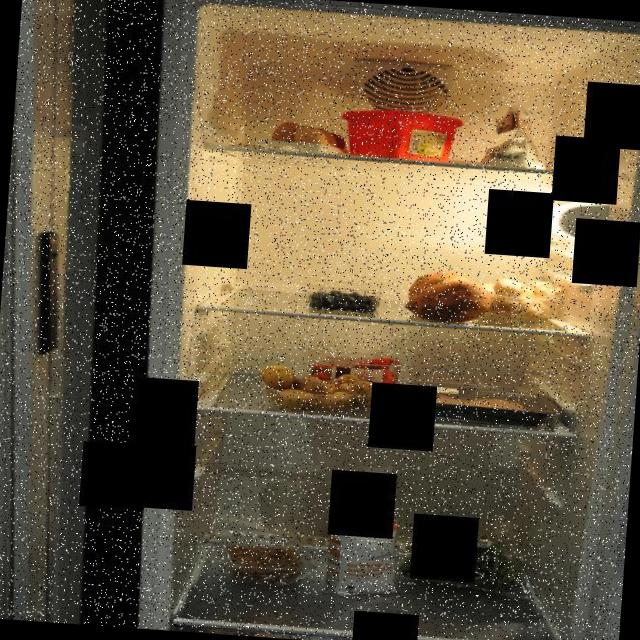Carne pollo: (386, 384, 530, 424)
Champiñones: (447, 274, 550, 326)
Gambas/Langostinos: (222, 538, 309, 588)
Huevos: (271, 120, 349, 154)
Mantequilla: (340, 105, 465, 163)
Patata: (256, 364, 394, 418)
blueberries: (306, 284, 381, 314)
flour: (479, 105, 553, 172)
green_beans: (396, 522, 542, 602)
strawberries: (298, 349, 397, 396)
sugar: (323, 507, 406, 602)
sweet_potato: (401, 268, 491, 324)
